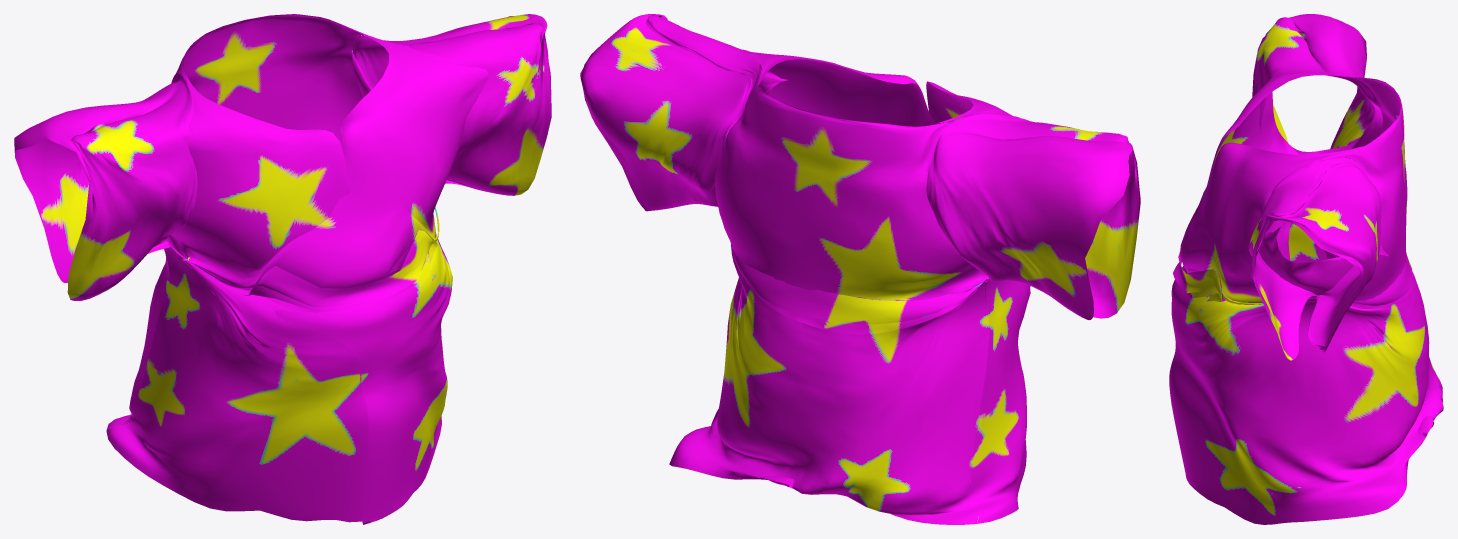
File: Wizard-Cloak-Pink.glb
3 renders of one model, left to right at view 1: azimuth 30°, elevation 25°; view 2: azimuth 150°, elevation 25°; view 3: azimuth 270°, elevation 25°, orthographic. The views are drawn at different scales.
Visible parts, largest first — view 1: Wizard-Cloak-Pink; view 2: Wizard-Cloak-Pink; view 3: Wizard-Cloak-Pink.
Part boxes in pixels (left/top/right/bottom): Wizard-Cloak-Pink: left=14, top=14, right=551, bottom=524; Wizard-Cloak-Pink: left=580, top=14, right=1140, bottom=524; Wizard-Cloak-Pink: left=1169, top=14, right=1443, bottom=524.
Size of the model in its own units: 0.6682 by 0.5166 by 0.3434.
Materials: 2 (2 with a texture image).
